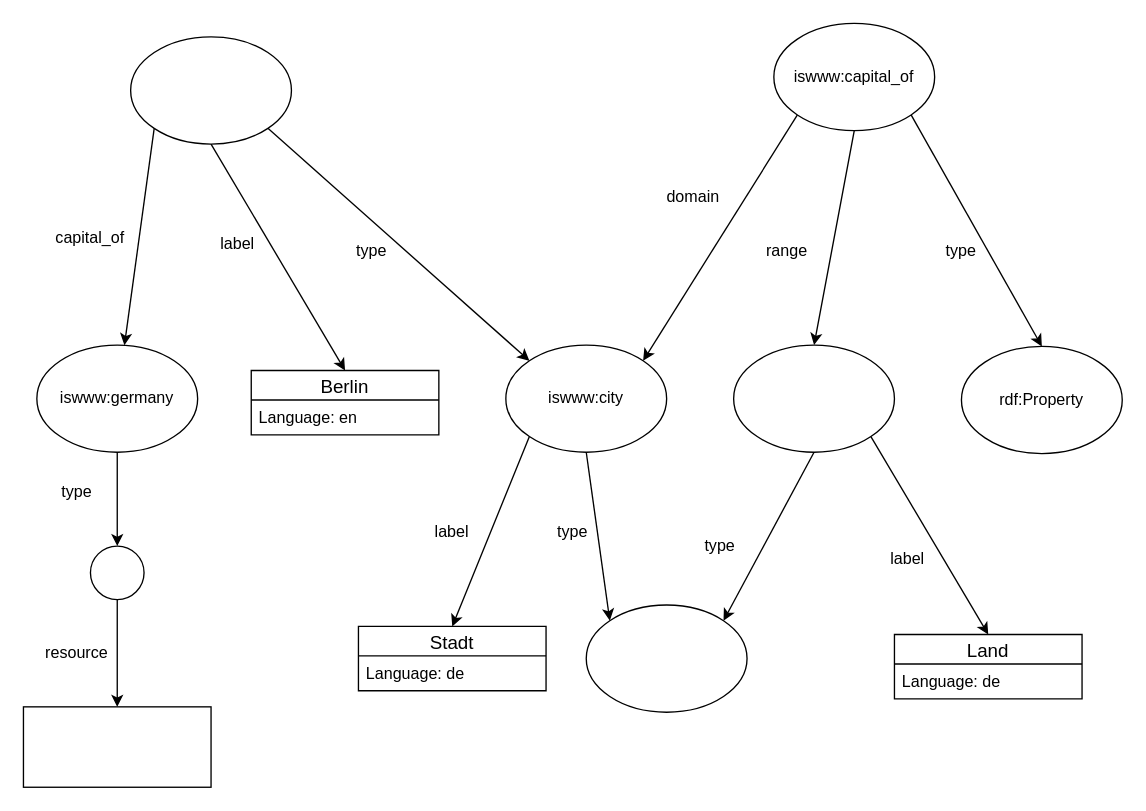
Some shapes in this 1146 by 811 pixel diagram are drawn without their labels. Each missing label, with the centre of its shape:
"http://sw.edu/#country" goes at (116,746).
"iswww:berlin" goes at (210,90).
"iswww:country" goes at (813,398).
"rdfs:Class" goes at (666,658).
